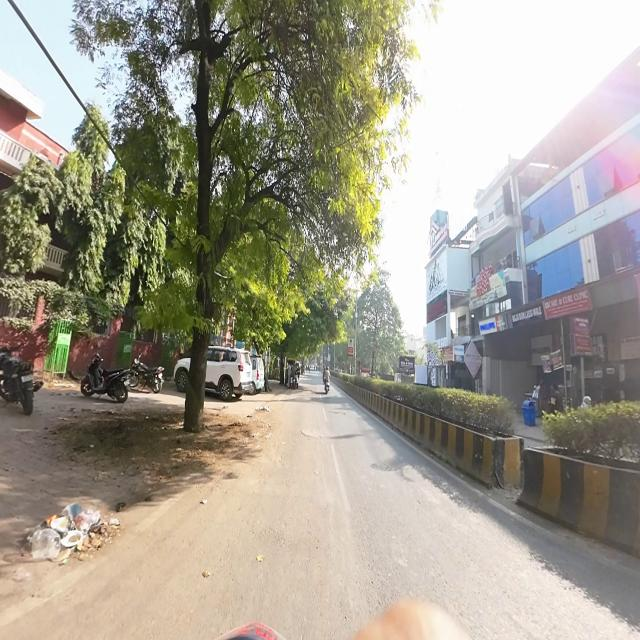Garbage: (54, 502, 95, 545), (29, 531, 62, 562)
